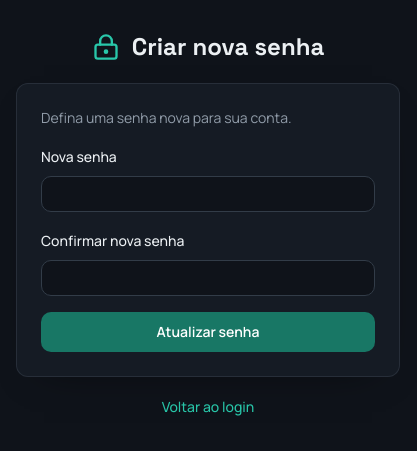
PasswordRecovery account self-service › prevents mismatch from updating password after recovery authentication
In the password field labelled "Nova senha": (208, 194) [41,176,375,212], type "NovoSegredo123"
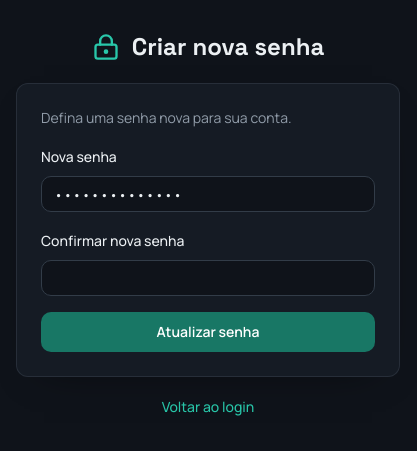
In the password field labelled "Confirmar nova senha": (208, 278) [41,260,375,296], type "Diferente123"
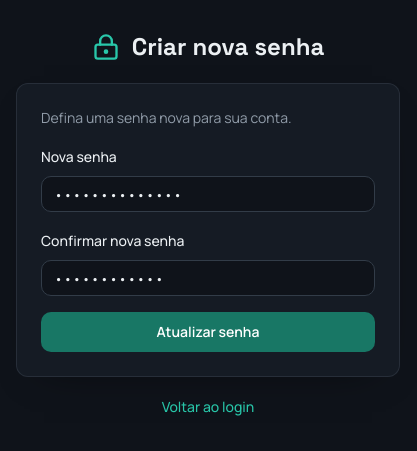
Click the button "Atualizar senha": (208, 332) [41,312,375,352]
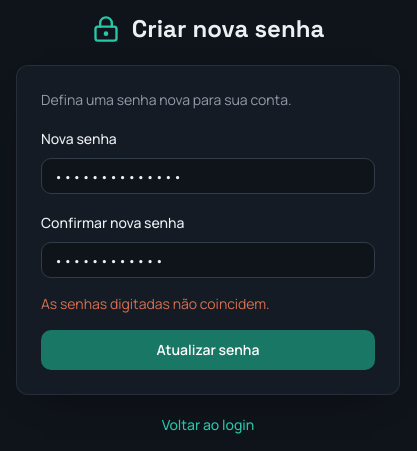
Expected: the message shows "As senhas digitadas não coincidem", [41,294,270,313]
